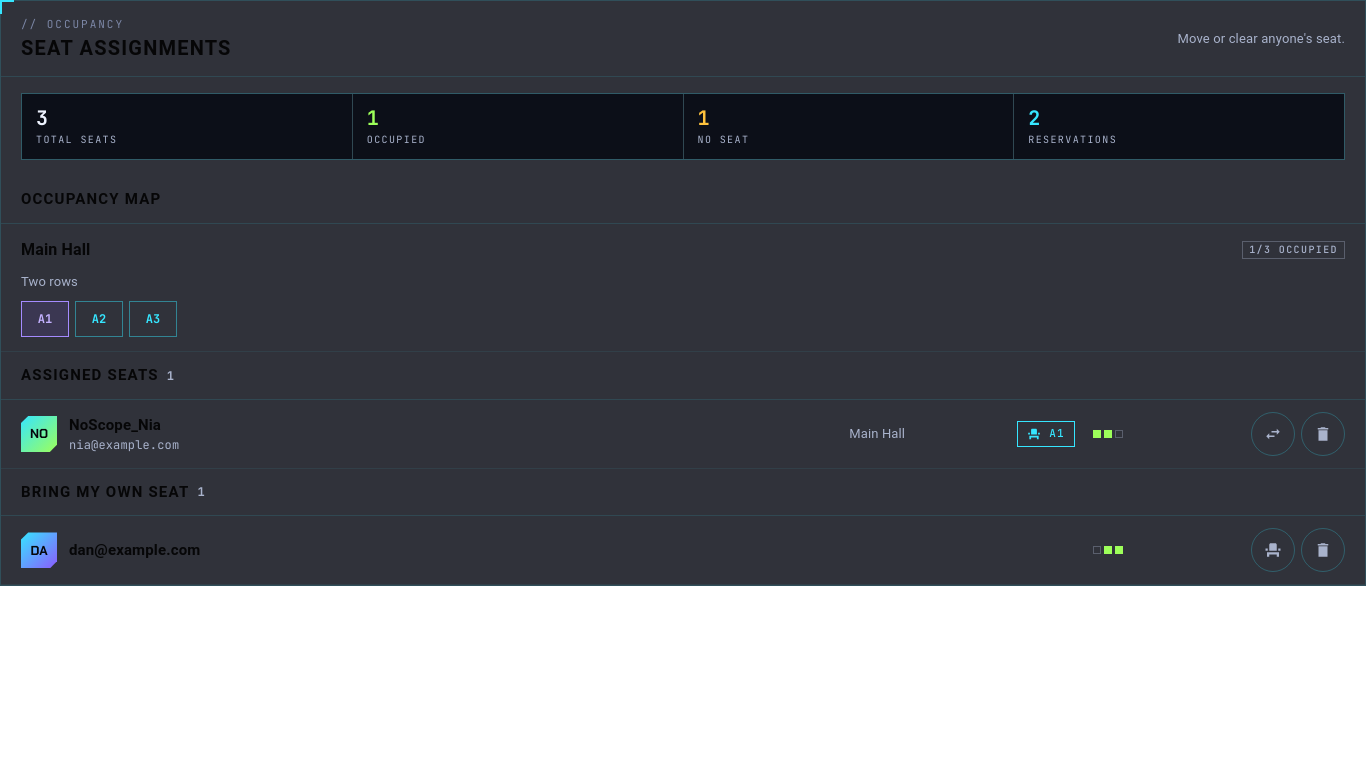
Test: SeatOccupancyAdmin › opens the move dialog for an assignment
The width and height of the screenshot is (1366, 768).
Click the button named "Move nia@example.com to different seat": (1273, 434) x1=1251 y1=412 x2=1295 y2=456
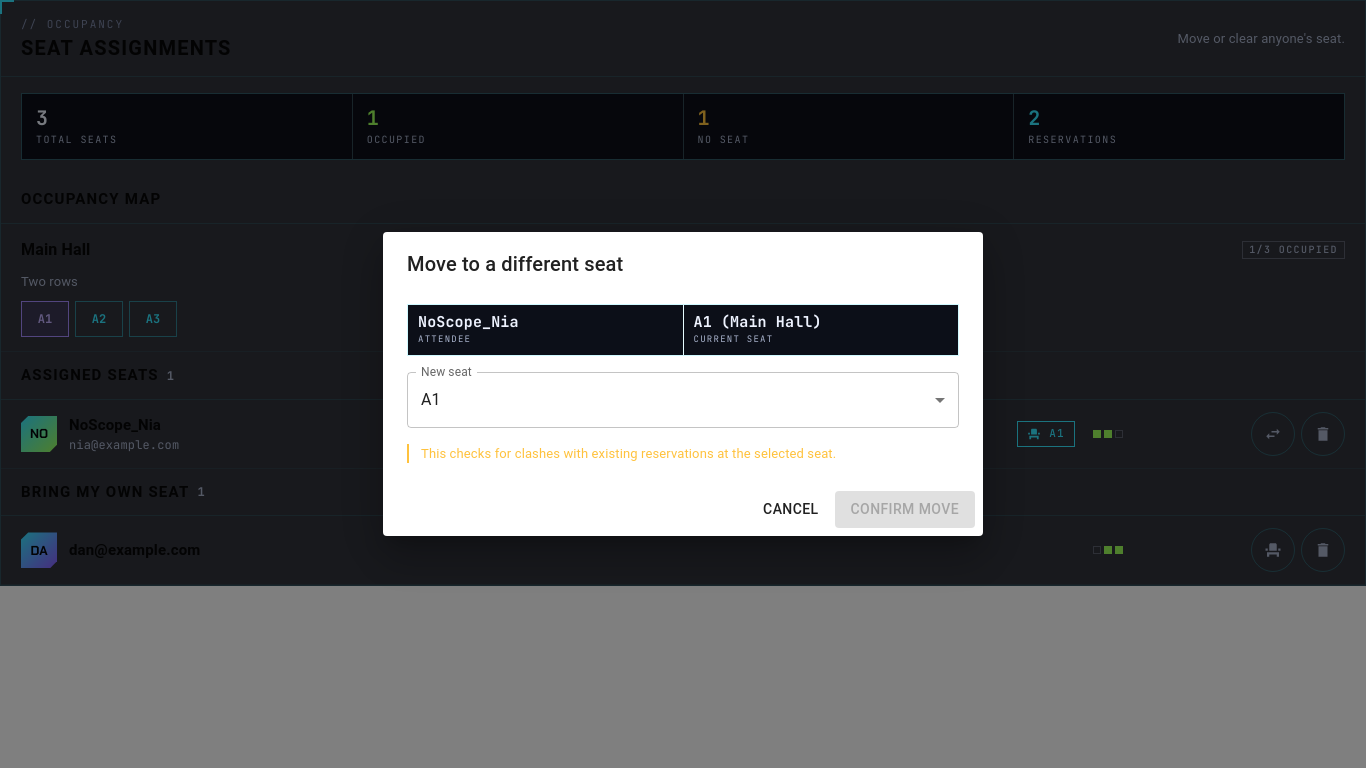
Expected: the dialog "Move to a different seat" is shown, x1=383 y1=232 x2=983 y2=536
